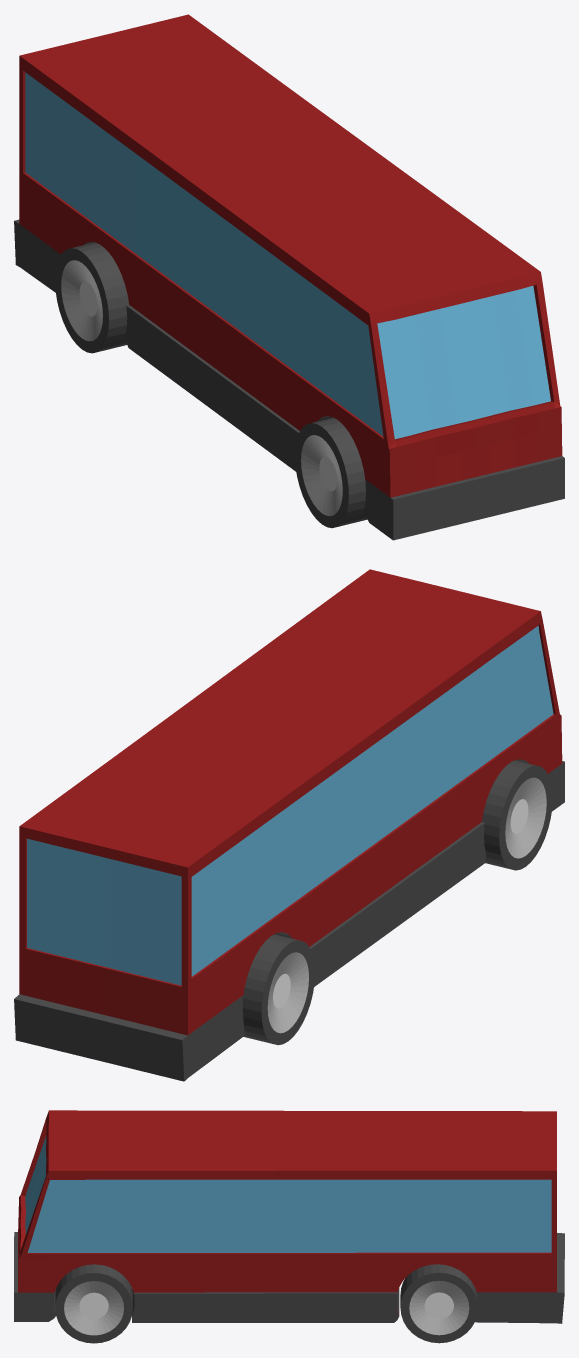
File: bus_red.fbx
3 renders of one model, top to bottom at view 1: azimuth 30°, elevation 25°; view 2: azimuth 150°, elevation 25°; view 3: azimuth 270°, elevation 25°, orthographic. The views are drawn at different scales.
Parts seen in each view (by area): view 1: Cube.010, Cylinder.034, Cylinder.037; view 2: Cube.010, Cylinder.034, Cylinder.037; view 3: Cube.010, Cylinder.035, Cylinder.036.
Boxes of the visible parts, left/top/right/bottom form: Cube.010: left=14, top=14, right=564, bottom=540; Cylinder.034: left=55, top=242, right=129, bottom=353; Cylinder.037: left=295, top=417, right=367, bottom=528; Cube.010: left=14, top=569, right=564, bottom=1081; Cylinder.034: left=242, top=934, right=314, bottom=1045; Cylinder.037: left=482, top=760, right=552, bottom=870; Cube.010: left=14, top=1110, right=564, bottom=1323; Cylinder.035: left=55, top=1264, right=132, bottom=1343; Cylinder.036: left=400, top=1264, right=478, bottom=1343.
Bounding box in the file's own units: 92.15 × 97.12 × 293.
